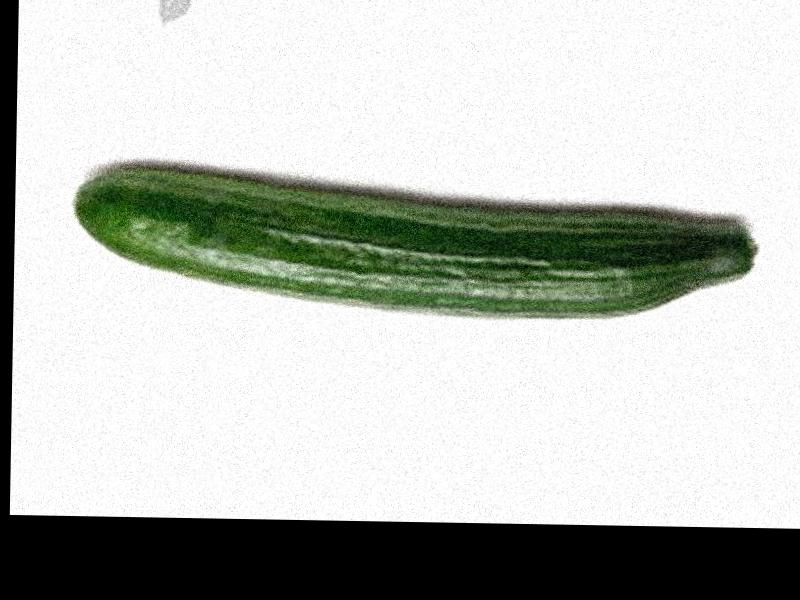Cucumber: (69, 166, 758, 321)
